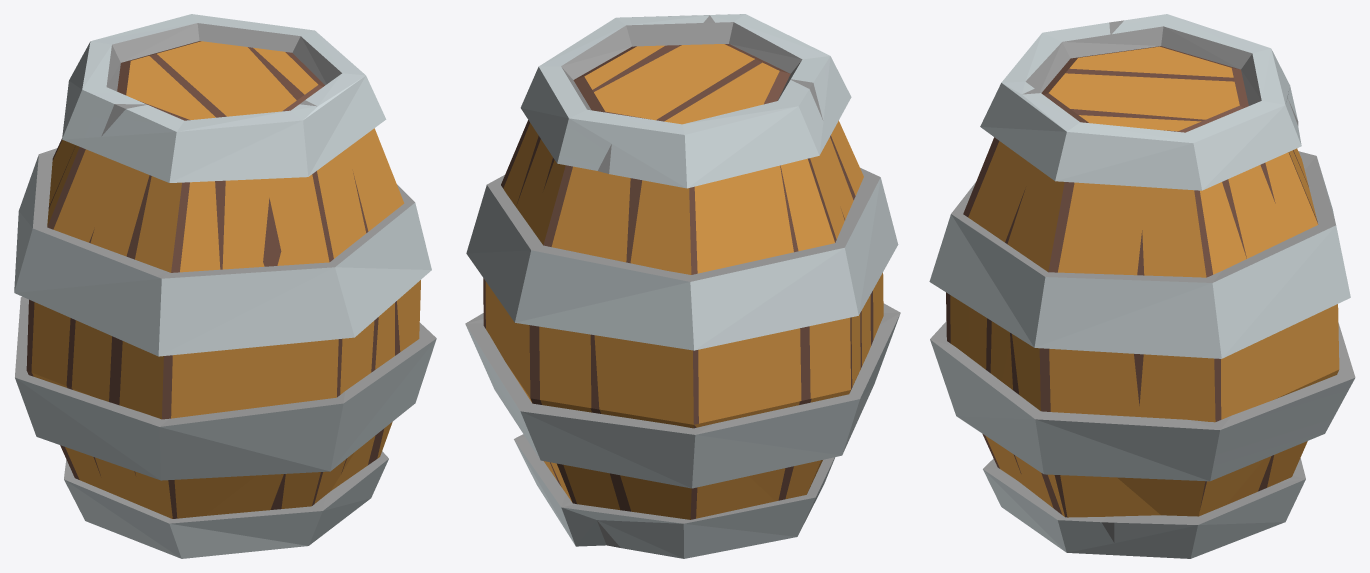
Rendered from barrel-by-nick-slough-vR8BN1xJcj.glb.
The picture shows the model from 3 angles, left to right: view 1: azimuth 30°, elevation 25°; view 2: azimuth 150°, elevation 25°; view 3: azimuth 270°, elevation 25°; orthographic projection.
Visible parts, largest first — view 1: Barrel; view 2: Barrel; view 3: Barrel.
Boxes of the visible parts, x1,y1,x2,y2 form: Barrel: [14, 14, 436, 558]; Barrel: [465, 14, 900, 558]; Barrel: [929, 14, 1355, 558].
Bounding box in the file's own units: 0.5665 × 0.6361 × 0.5714.
